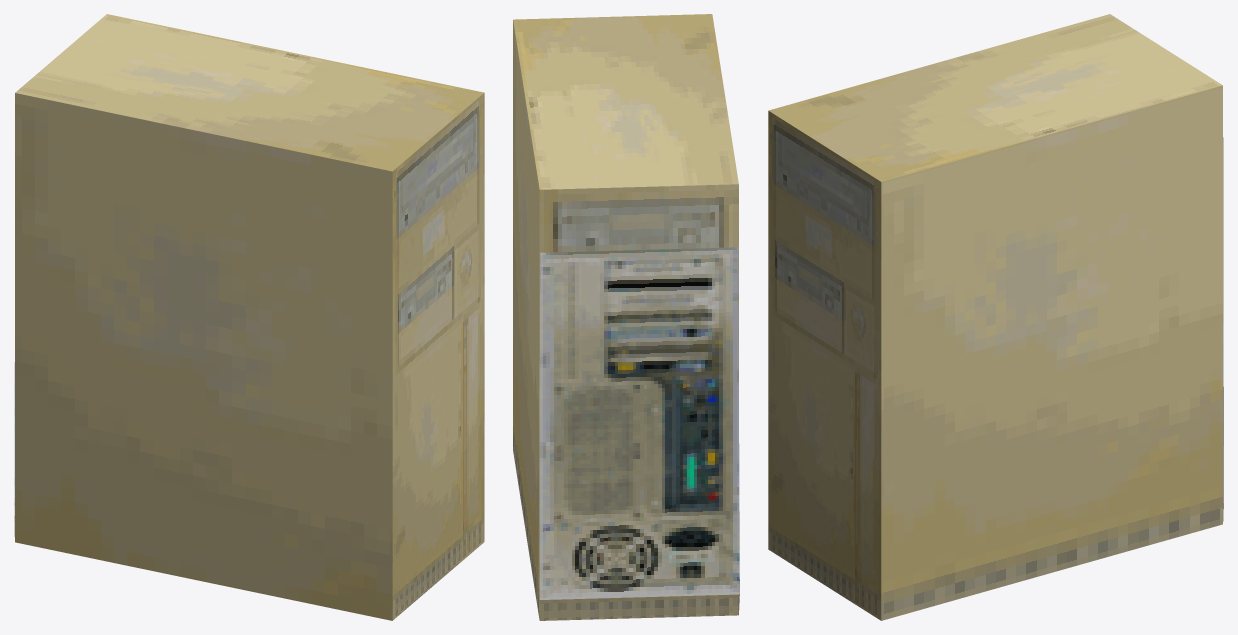
3 views of the same model, side by side, from view 1: azimuth 30°, elevation 25°; view 2: azimuth 150°, elevation 25°; view 3: azimuth 270°, elevation 25° (orthographic). The views are drawn at different scales.
Parts seen in each view (by area): view 1: CPU Plainde_Material.001_0; view 2: CPU Plainde_Material.001_0; view 3: CPU Plainde_Material.001_0.
Part boxes in pixels (box(x1,y1,x2,y2)): CPU Plainde_Material.001_0: box(14, 14, 484, 620); CPU Plainde_Material.001_0: box(513, 14, 739, 620); CPU Plainde_Material.001_0: box(768, 14, 1223, 620).
Bounding box in the file's own units: 2.43 × 2.95 × 2.78.
Materials: 1 (1 with a texture image).
